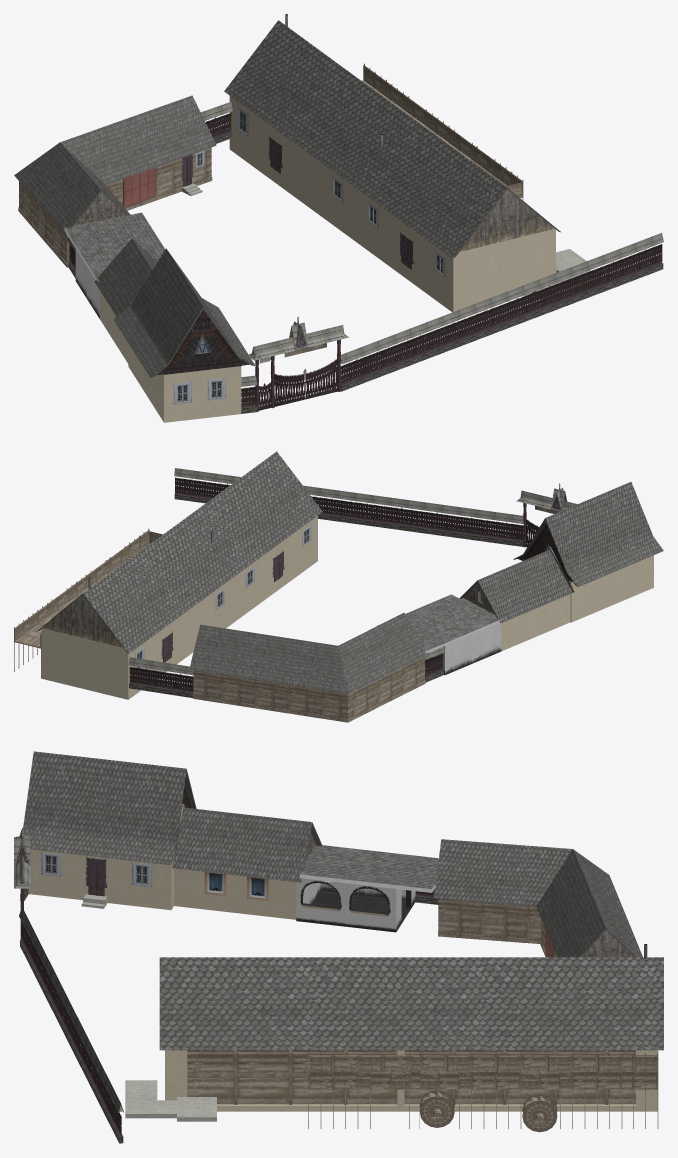
File: Gamora.FBX
3 renders of one model, top to bottom at view 1: azimuth 30°, elevation 25°; view 2: azimuth 150°, elevation 25°; view 3: azimuth 270°, elevation 25°, orthographic. The views are drawn at different scales.
Visible parts, largest first — view 1: MainBuildingRoof, MainBuilding, WarehouseRoof, AdminBuildingRoof, AdminBuilding, Warehouse, CorridorBuildingRoof, AnnexBuildingRoof, MainBuildingRoofBase, GateBig, GateRoof, AdminBuildingRoofBase (+20 smaller); view 2: MainBuildingRoof, MainBuilding, WarehouseRoof, AdminBuildingRoof, Warehouse, AnnexBuildingRoof, CorridorBuildingRoof, AdminBuilding, AnnexBuilding, MainBuildingRoofBase, Corridor, fence010 (+17 smaller); view 3: MainBuildingRoof, AdminBuildingRoof, WarehouseRoof, AnnexBuildingRoof, Corridor, AdminBuilding, MainBuilding, CorridorBuildingRoof, Warehouse, WaterCanal002, WaterCanal, WaterCanal001 (+17 smaller).
Boxes of the visible parts, x1,y1,x2,y2 form: MainBuildingRoof: [224, 20, 560, 258]; MainBuilding: [229, 96, 555, 312]; WarehouseRoof: [14, 95, 216, 233]; AdminBuildingRoof: [113, 248, 255, 377]; AdminBuilding: [128, 343, 241, 422]; Warehouse: [18, 147, 212, 267]; CorridorBuildingRoof: [64, 212, 165, 281]; AnnexBuildingRoof: [94, 238, 157, 316]; MainBuildingRoofBase: [459, 190, 554, 251]; GateBig: [274, 358, 337, 406]; GateRoof: [247, 316, 348, 360]; AdminBuildingRoofBase: [157, 329, 249, 375]; MainBuildingRoof: [37, 451, 322, 653]; MainBuilding: [41, 515, 317, 699]; WarehouseRoof: [189, 613, 428, 694]; AdminBuildingRoof: [513, 482, 663, 586]; Warehouse: [193, 656, 425, 722]; AnnexBuildingRoof: [459, 550, 572, 622]; CorridorBuildingRoof: [377, 594, 502, 653]; AdminBuilding: [568, 555, 653, 622]; AnnexBuilding: [501, 594, 570, 651]; MainBuildingRoofBase: [42, 595, 122, 647]; Corridor: [425, 623, 501, 674]; fence010: [349, 492, 384, 527]; MainBuildingRoof: [159, 957, 663, 1050]; AdminBuildingRoof: [23, 751, 196, 865]; WarehouseRoof: [434, 839, 642, 957]; AnnexBuildingRoof: [173, 807, 322, 882]; Corridor: [296, 878, 415, 932]; AdminBuilding: [28, 849, 174, 910]; MainBuilding: [165, 1050, 658, 1111]; CorridorBuildingRoof: [299, 845, 438, 892]; Warehouse: [438, 899, 557, 957]; WaterCanal002: [308, 1053, 409, 1128]; WaterCanal: [420, 1053, 521, 1128]; WaterCanal001: [521, 1053, 622, 1128].
Size of the model in its own units: 4356 by 1007 by 4085.
